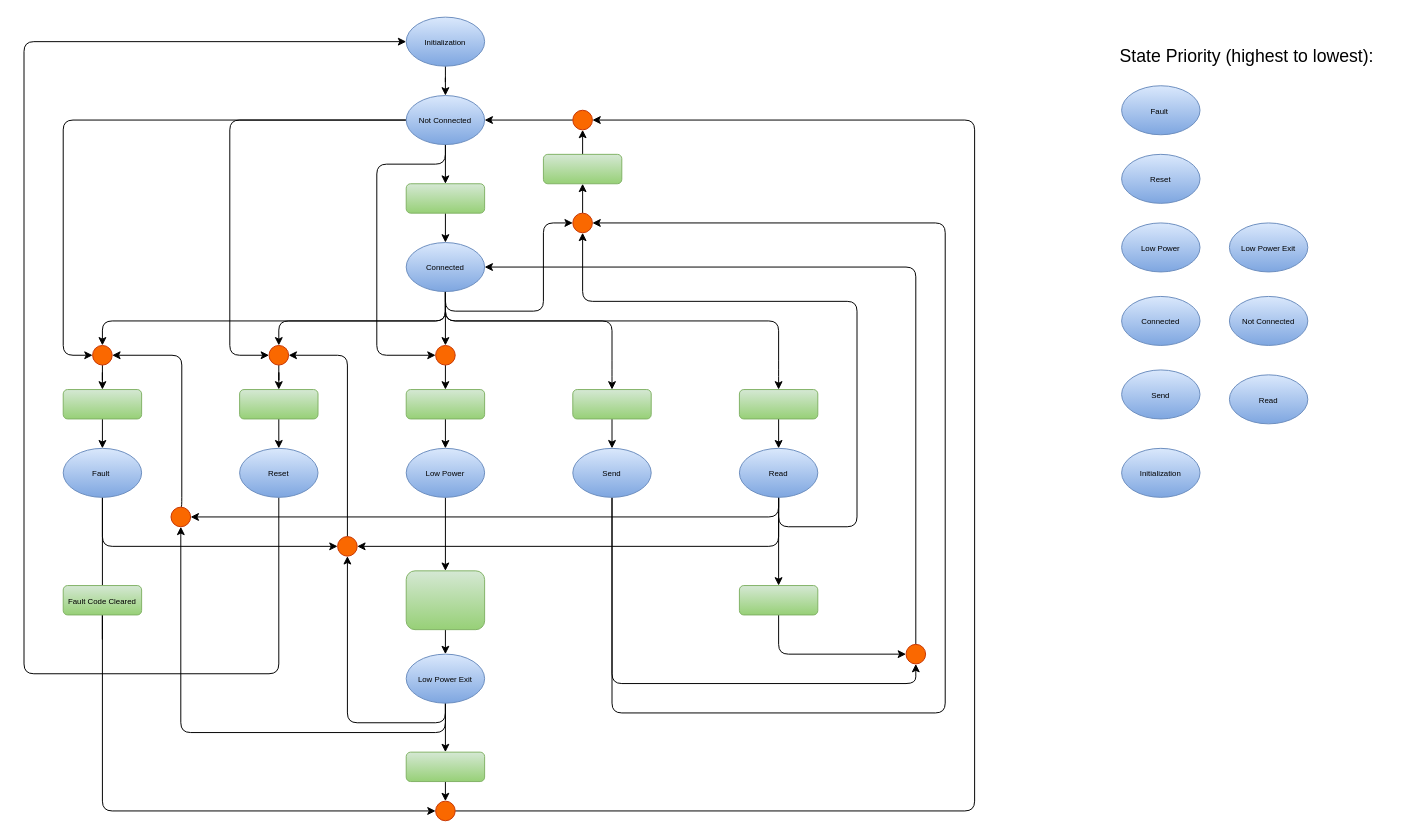
Some shapes in this 1403 by 838 pixel diagram are drawn without their labels. The centre of each missing label's shape, as x and y in pixels:
Fault Code != 0: point (102, 404)
Fault Code != 0 or Reset Flag Set or Low Power Flag Cleared: point (445, 600)
Low Power Flag Set: point (445, 404)
No other flags set: point (445, 766)
Read Flag Cleared: point (778, 600)
Read Flag Set: point (778, 404)
Reset Flag Set: point (278, 404)
Send Flag Set: point (611, 404)
STATE pin high: point (445, 198)
STATE pin low: point (582, 168)
